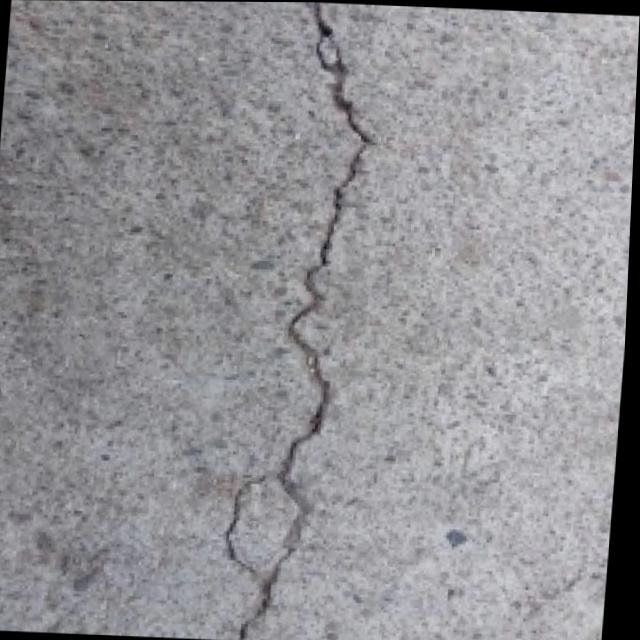Crack: (187, 4, 389, 640)
